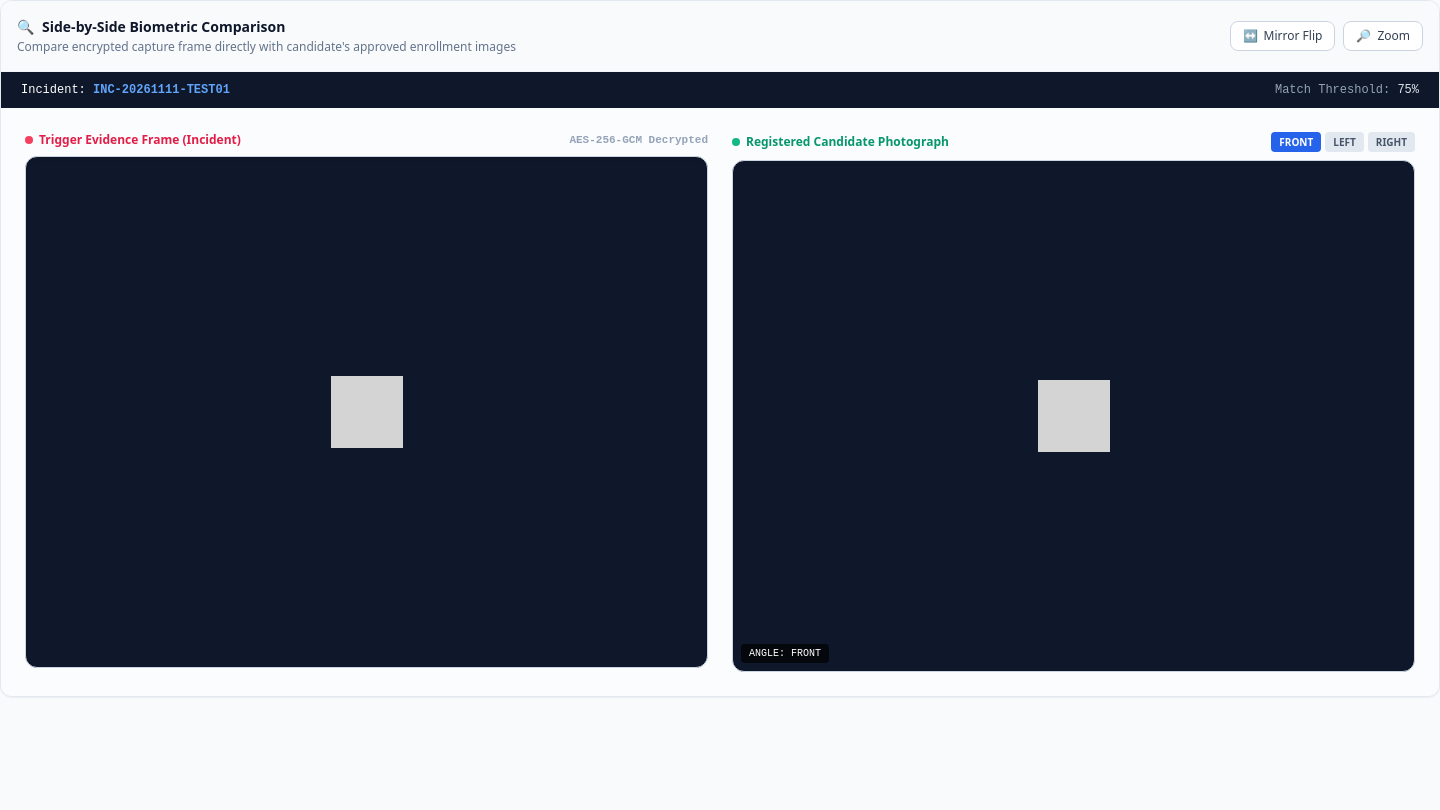
EvidenceComparison Component › switches registered photo angle when angle tab is clicked
Expected: the text "ANGLE: FRONT" is shown, [741,644,829,663]
What coordinates should you click on to do the following:
click the button "LEFT"
I would click on:
 (1345, 142)
Its box is [1325,132,1364,152].
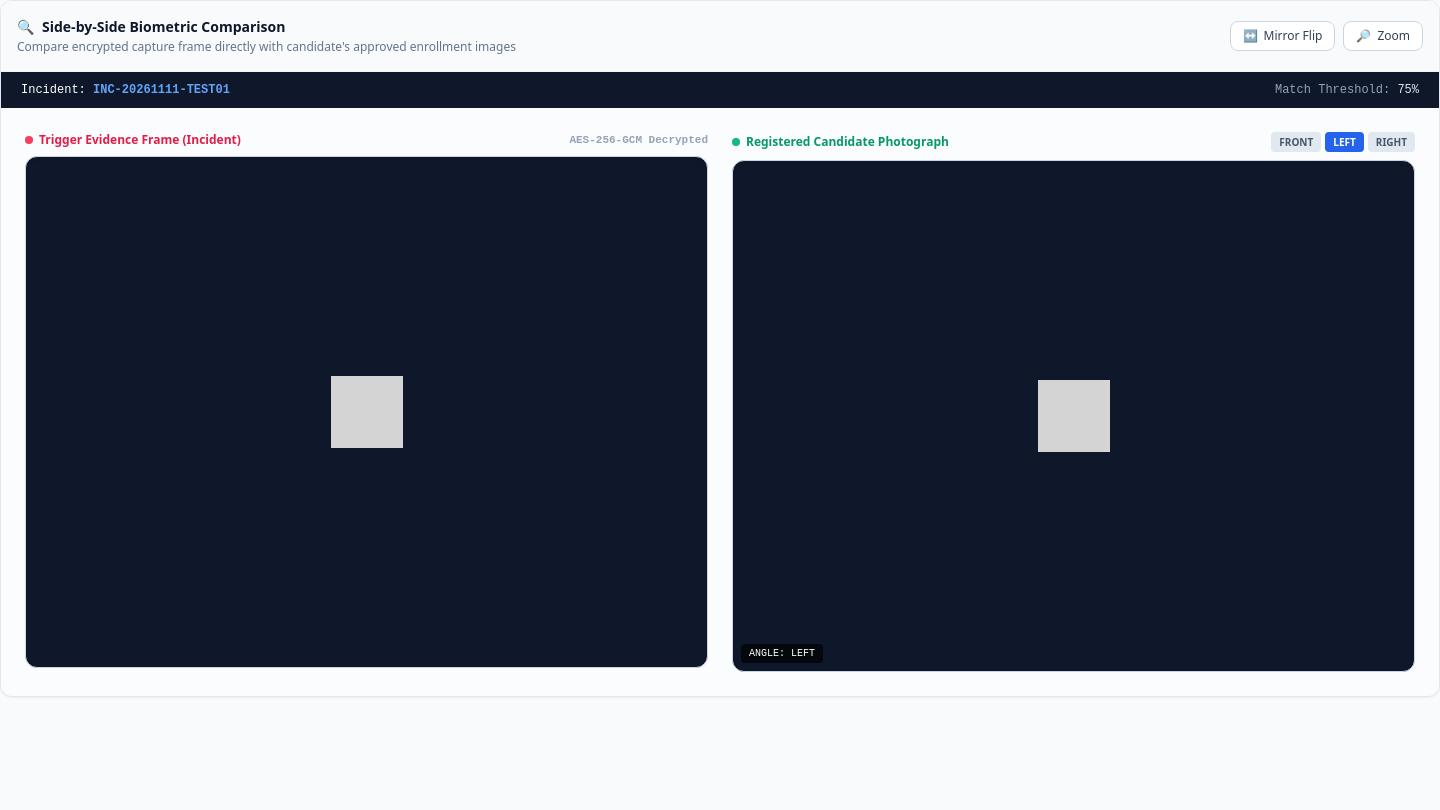
Expected: the text "ANGLE: LEFT" is shown, [741,644,823,663]
